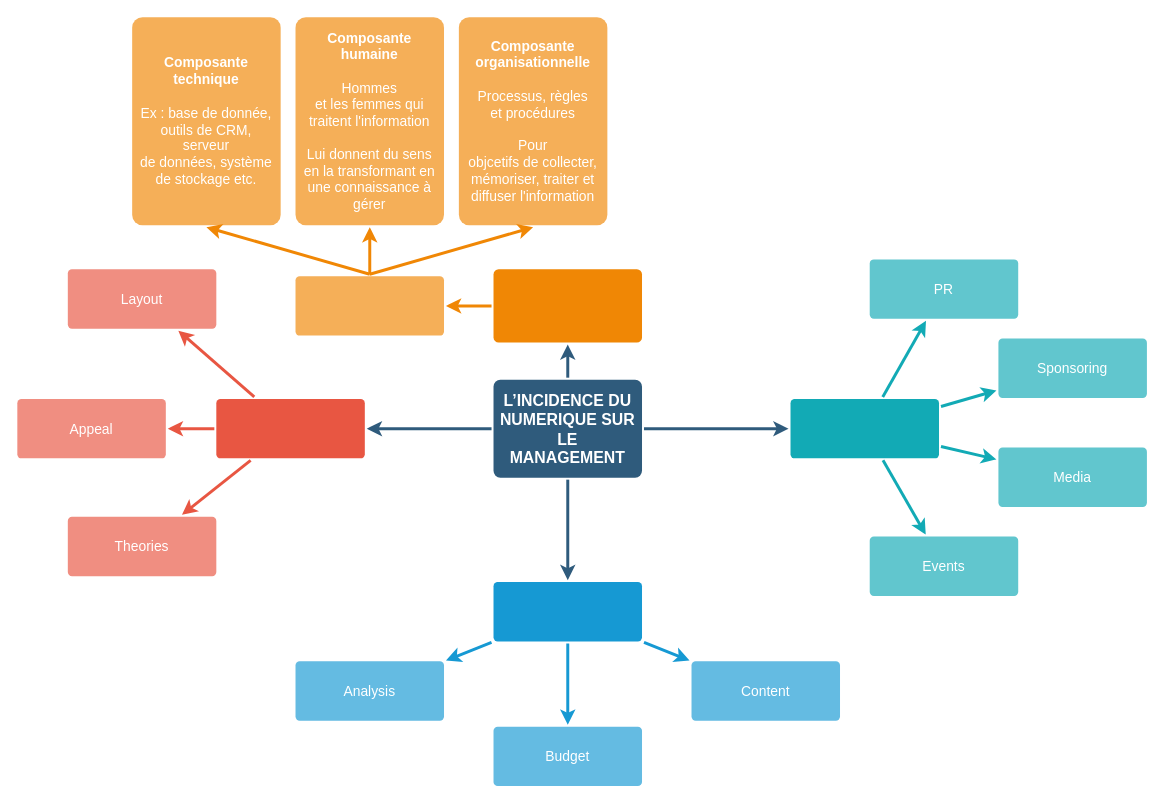
Some shapes in this 1163 by 803 pixel diagram are drawn without their labels. Each missing label, with the box of its shape:
Communication: (790, 398, 939, 458)
Composante du système d’information: (295, 276, 444, 335)
Embassy: (216, 398, 364, 458)
Notions 1 : système d’information Matériel / Immatériel / Humain: (493, 269, 642, 342)
Organization: (493, 582, 642, 641)
